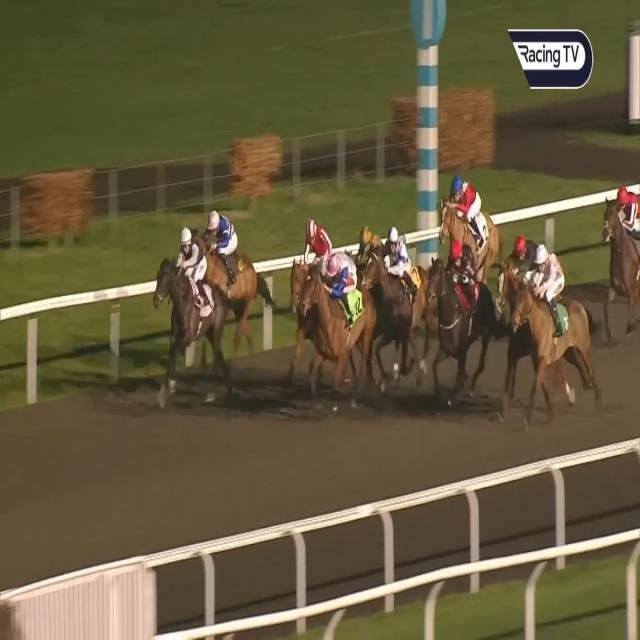horses-racing: (419, 237, 504, 401), (150, 227, 232, 394), (513, 248, 596, 407), (365, 228, 436, 388), (297, 241, 361, 410), (192, 209, 274, 329), (599, 179, 640, 357), (434, 178, 504, 272), (286, 214, 331, 344), (498, 232, 556, 330), (355, 220, 386, 268)
